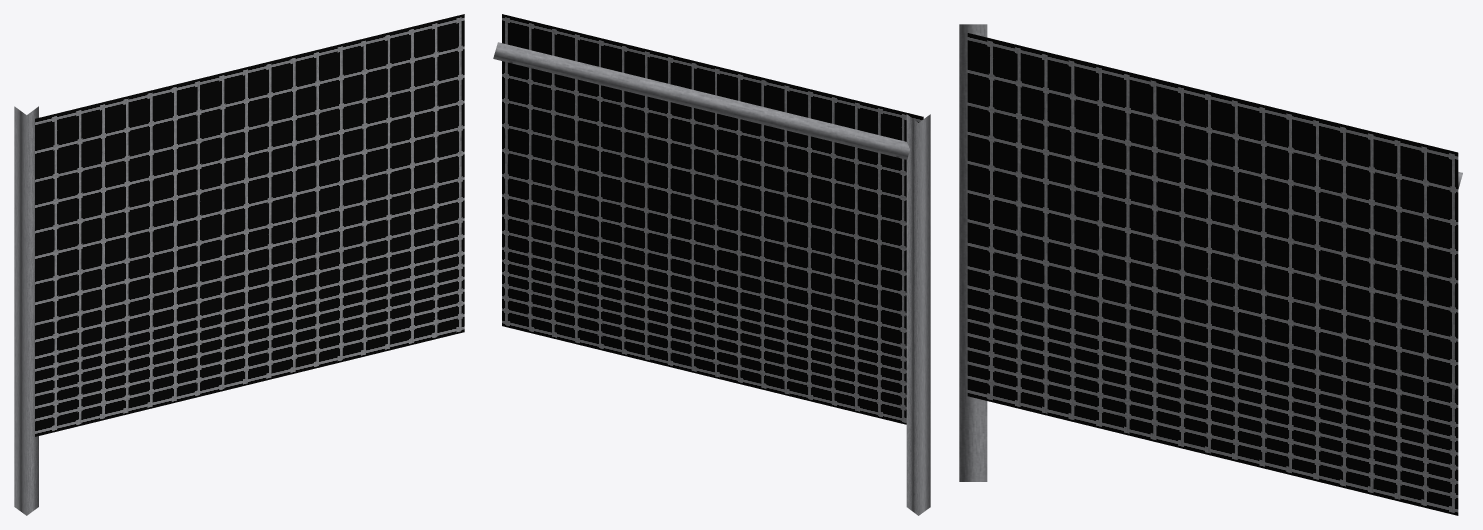
File: fence-tall-mesh-end-cbj_LOD03.gltf
3 renders of one model, left to right at view 1: azimuth 30°, elevation 25°; view 2: azimuth 150°, elevation 25°; view 3: azimuth 330°, elevation 25°, orthographic. The views are drawn at different scales.
Visible parts, largest first — view 1: Cube.003; view 2: Cube.003; view 3: Cube.003.
Boxes of the visible parts, x1,y1,x2,y2 form: Cube.003: (14, 14, 464, 515); Cube.003: (493, 14, 930, 515); Cube.003: (959, 24, 1462, 515).
Size of what is drawn, in the model's own units: 2.66 by 2.33 by 0.1356.
